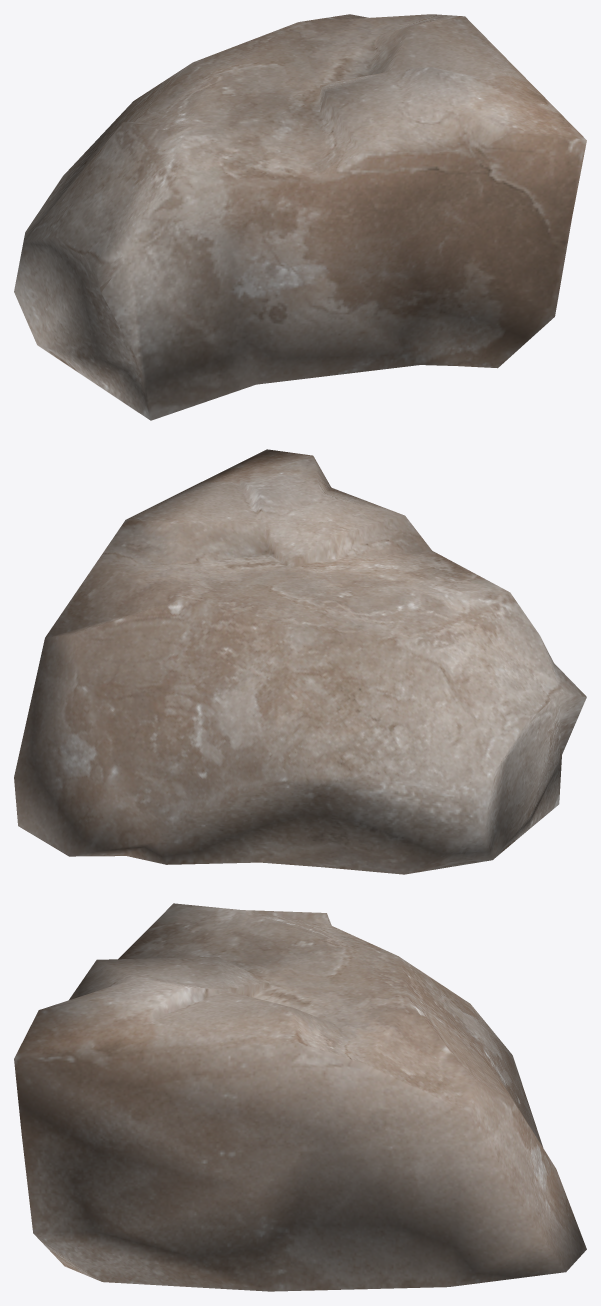
The model's file is Aset_nature_rock_S_ulebdjn.fbx.
The picture shows the model from 3 angles, top to bottom: view 1: azimuth 30°, elevation 25°; view 2: azimuth 150°, elevation 25°; view 3: azimuth 270°, elevation 25°; orthographic projection. The views are drawn at different scales.
Parts seen in each view (by area): view 1: Aset_nature_rock_S_ulebdjn_LOD0; view 2: Aset_nature_rock_S_ulebdjn_LOD0; view 3: Aset_nature_rock_S_ulebdjn_LOD0.
Part boxes in pixels (bbox=[...]): Aset_nature_rock_S_ulebdjn_LOD0: bbox=[14, 14, 586, 420]; Aset_nature_rock_S_ulebdjn_LOD0: bbox=[14, 449, 586, 874]; Aset_nature_rock_S_ulebdjn_LOD0: bbox=[14, 903, 586, 1291].
Size of what is drawn, in the model's own units: 62.03 by 37.11 by 68.54.
